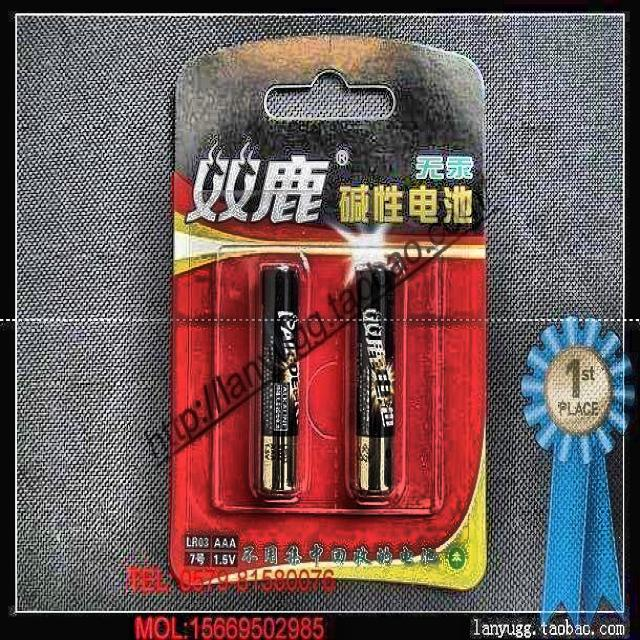Non-Valuable Waste - Batteries: (356, 267, 394, 493), (261, 269, 299, 492)
